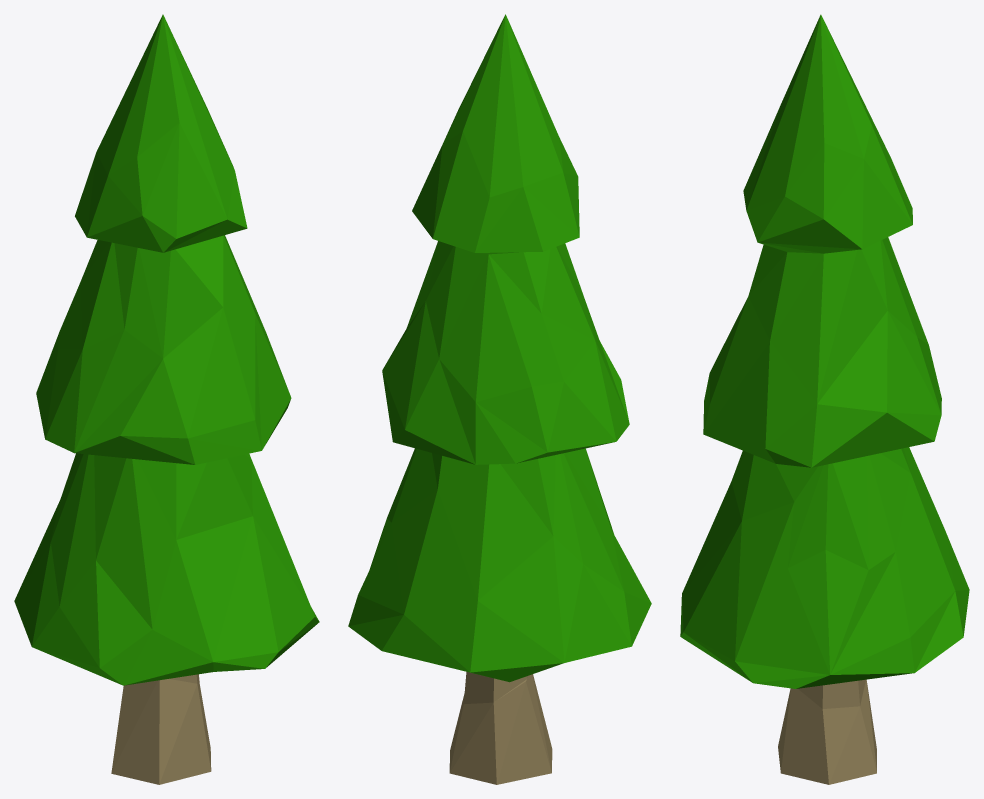
The model's file is Pine1.fbx.
3 views of the same model, side by side, from view 1: azimuth 30°, elevation 25°; view 2: azimuth 150°, elevation 25°; view 3: azimuth 270°, elevation 25° (orthographic).
Parts seen in each view (by area): view 1: pCylinder2, pCylinder3; view 2: pCylinder2, pCylinder3; view 3: pCylinder2, pCylinder3.
Boxes of the visible parts, bbox=[...] form: pCylinder2: bbox=[14, 14, 319, 685]; pCylinder3: bbox=[111, 674, 211, 784]; pCylinder2: bbox=[348, 14, 651, 682]; pCylinder3: bbox=[449, 671, 552, 784]; pCylinder2: bbox=[680, 14, 969, 688]; pCylinder3: bbox=[778, 679, 876, 784].
Bounding box in the file's own units: 2.18 × 5.9 × 2.07.
